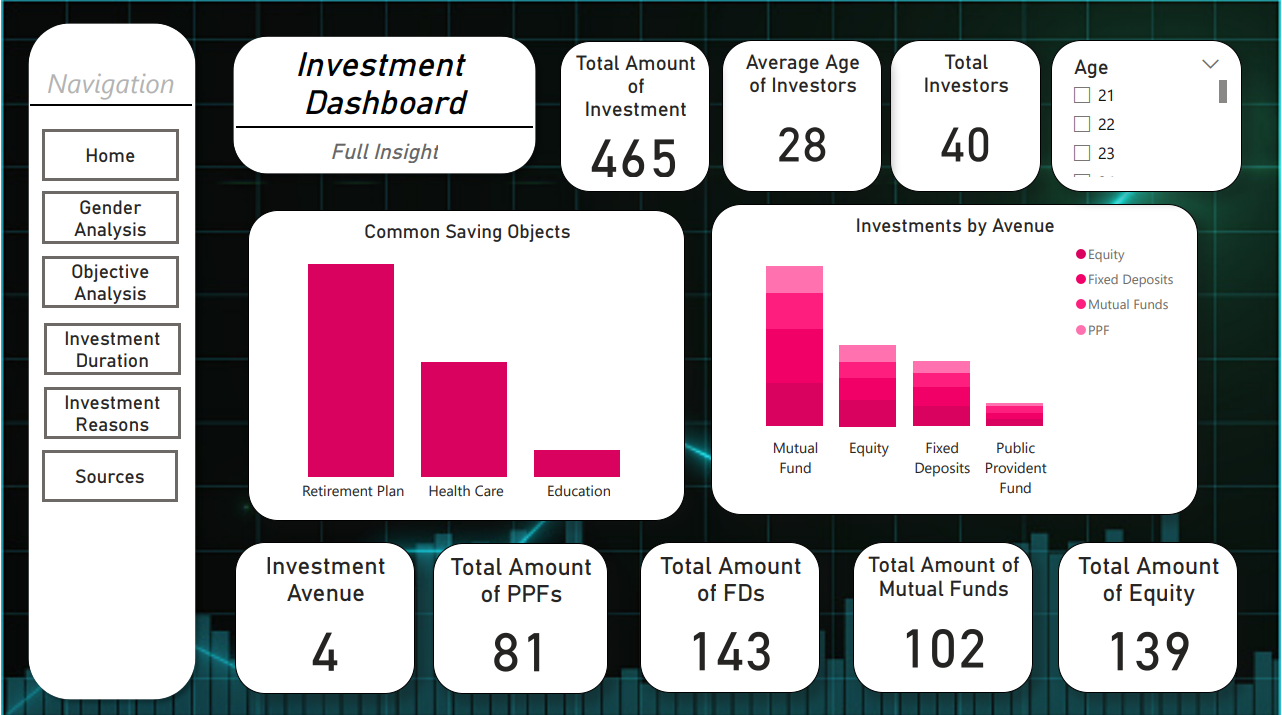

Layout of this report page (visuals, bound fields, positions):
{"tool":"powerbi","page":{"name":"Home","canvas":[1280,720],"ordinal":0},"visuals":[{"type":"shape","box":[19.2,16.5,183.9,693],"z":0},{"type":"textbox","box":[28.8,60.4,161.9,46.7],"z":1000},{"type":"shape","box":[28.8,83.7,161.9,43.9],"z":2000},{"type":"shape","box":[223.7,28.8,319.7,153.7],"z":3000},{"type":"textbox","box":[246.6,41.3,272.2,85.5],"z":4000},{"type":"shape","box":[234.6,105.7,297.8,43.9],"z":5000},{"type":"card","title":"Total Investors","fields":{"Values":["CountNonNull(Data_set 2.age)"]},"box":[889.1,41,150.8,152],"z":6000},{"type":"card","title":"Investment Avenue","fields":{"Values":["Count(Data_set 2.Avenue)"]},"box":[234,542.9,179.8,152],"z":7000},{"type":"card","title":"Total Amount of FDs","fields":{"Values":["Sum(Data_set 2.Fixed_Deposits)"]},"box":[639.4,542.9,179.8,150.8],"z":8000},{"type":"card","title":"Total Amount of Mutual Funds","fields":{"Values":["Sum(Data_set 2.Mutual_Funds)"]},"box":[851.7,542.9,179.8,150.8],"z":9000},{"type":"card","title":"Total Amount of PPFs","fields":{"Values":["Sum(Data_set 2.PPF)"]},"box":[431.9,544.1,174.9,150.8],"z":10000},{"type":"card","title":"Total Amount of Equity","fields":{"Values":["Sum(Data_set 2.Equity_Market)"]},"box":[1056.8,542.9,179.8,150.8],"z":11000},{"type":"card","title":"Average Age of Investors","fields":{"Values":["Measure.avg age"]},"box":[721.5,41,159.3,152],"z":12000},{"type":"columnChart","title":"Common Saving Objects","fields":{"Category":["Data_set 2.What are your savings objectives?"],"Y":["CountNonNull(Data_set 2.age)"]},"box":[246.6,211,437.6,310.7],"z":13000},{"type":"columnChart","title":"Investments by Avenue","fields":{"Category":["Data_set 2.Avenue"],"Y":["Sum(Data_set 2.Equity_Market)","Sum(Data_set 2.Fixed_Deposits)","Sum(Data_set 2.Mutual_Funds)","Sum(Data_set 2.PPF)"]},"box":[709.8,205.3,487.5,310.7],"z":14000},{"type":"actionButton","title":"Home","box":[41.3,129.7,136.8,52.7],"z":15000},{"type":"actionButton","title":"Home","box":[41.3,192.4,136.8,52.7],"z":16000},{"type":"actionButton","title":"Home","box":[41.3,256.6,136.8,52.7],"z":17000},{"type":"actionButton","title":"Home","box":[42.8,323.6,136.8,52.7],"z":18000},{"type":"actionButton","title":"Home","box":[42.8,387.7,136.8,52.7],"z":19000},{"type":"actionButton","title":"Home","box":[41,451.2,136.3,51.9],"z":20000},{"type":"slicer","fields":{"Values":["Data_set 2.age"]},"box":[1049.6,41,191.8,152],"z":21000},{"type":"card","title":"Total Amount of Investment","fields":{"Values":["Sum(Measure.total amount of investment)"]},"box":[558.6,42.2,150.8,150.8],"z":21001}]}

Visuals, with their boxes in screenshot pixels (x1, y1, x2, y2), scaled from the page's 1280x720 canvas onto the 1282x715 screenshot:
shape: box=[19, 16, 203, 705]
textbox: box=[29, 60, 191, 106]
shape: box=[29, 83, 191, 127]
shape: box=[224, 29, 544, 181]
textbox: box=[247, 41, 520, 126]
shape: box=[235, 105, 533, 149]
"Total Investors" card: box=[890, 41, 1042, 192]
"Investment Avenue" card: box=[234, 539, 414, 690]
"Total Amount of FDs" card: box=[640, 539, 820, 689]
"Total Amount of Mutual Funds" card: box=[853, 539, 1033, 689]
"Total Amount of PPFs" card: box=[433, 540, 608, 690]
"Total Amount of Equity" card: box=[1058, 539, 1239, 689]
"Average Age of Investors" card: box=[723, 41, 882, 192]
"Common Saving Objects" columnChart: box=[247, 210, 685, 518]
"Investments by Avenue" columnChart: box=[711, 204, 1199, 512]
"Home" actionButton: box=[41, 129, 178, 181]
"Home" actionButton: box=[41, 191, 178, 243]
"Home" actionButton: box=[41, 255, 178, 307]
"Home" actionButton: box=[43, 321, 180, 374]
"Home" actionButton: box=[43, 385, 180, 437]
"Home" actionButton: box=[41, 448, 178, 500]
slicer - Data_set 2.age: box=[1051, 41, 1243, 192]
"Total Amount of Investment" card: box=[559, 42, 711, 192]
